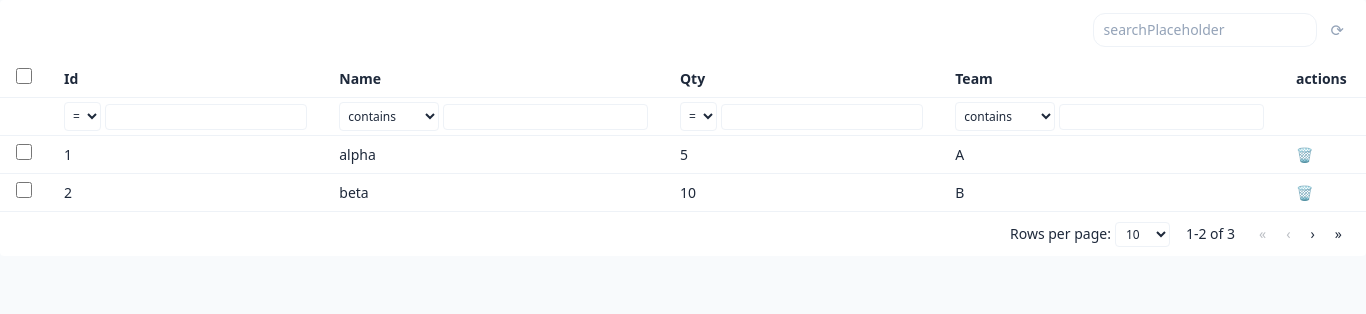
Test: Table › bulk delete failure banner summarizes counts and row identity
Click the checkbox named "Select row 1" at (24, 152), box [16,144,32,160]
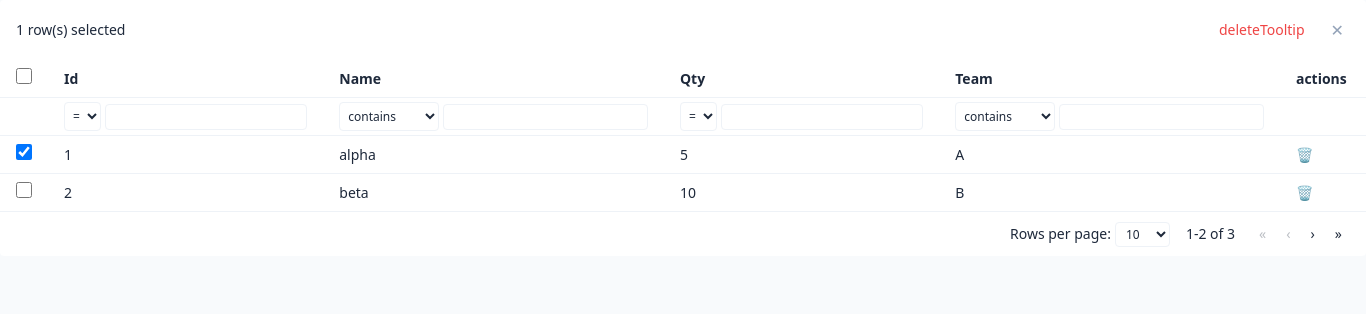
Click the checkbox named "Select row 2" at (24, 190), box [16,182,32,198]
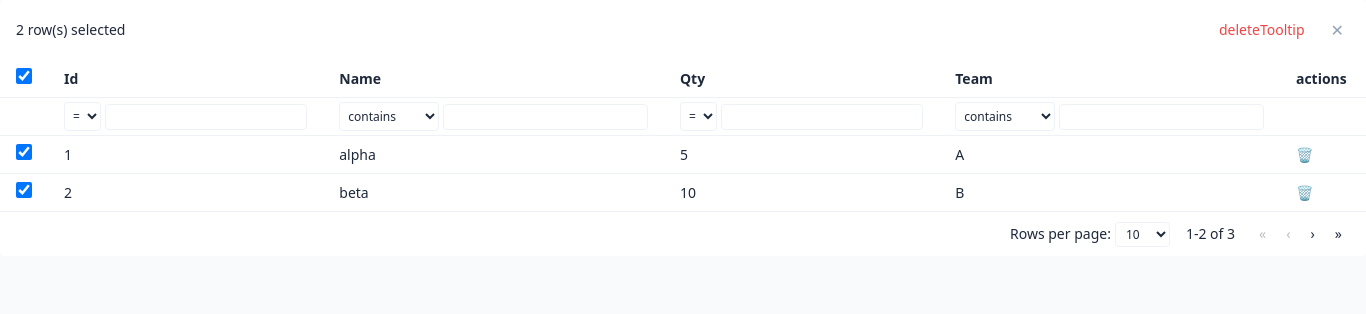
Click the button "deleteTooltip" at (1262, 30), box [1207,16,1317,44]
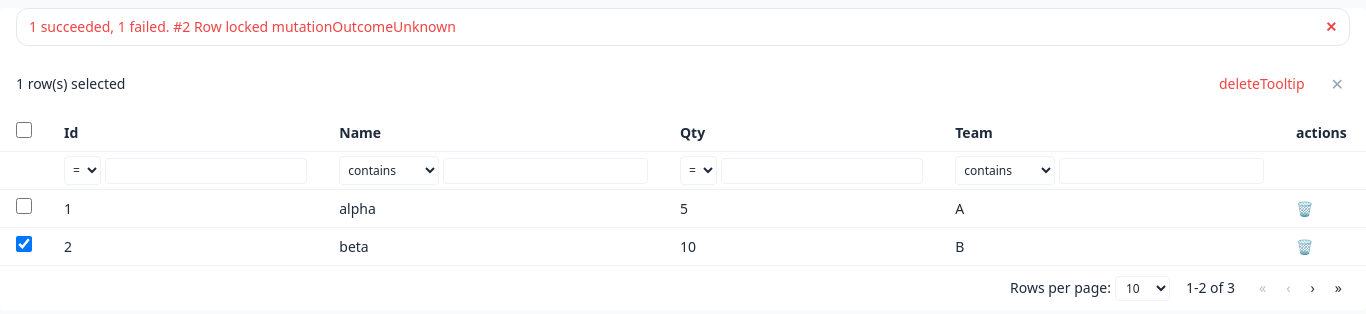
Check: the message shows "1 succeeded, 1 failed.", box [29,17,456,36]
Check: the message shows "#2", box [29,17,456,36]
Check: the message shows "Row locked", box [29,17,456,36]
